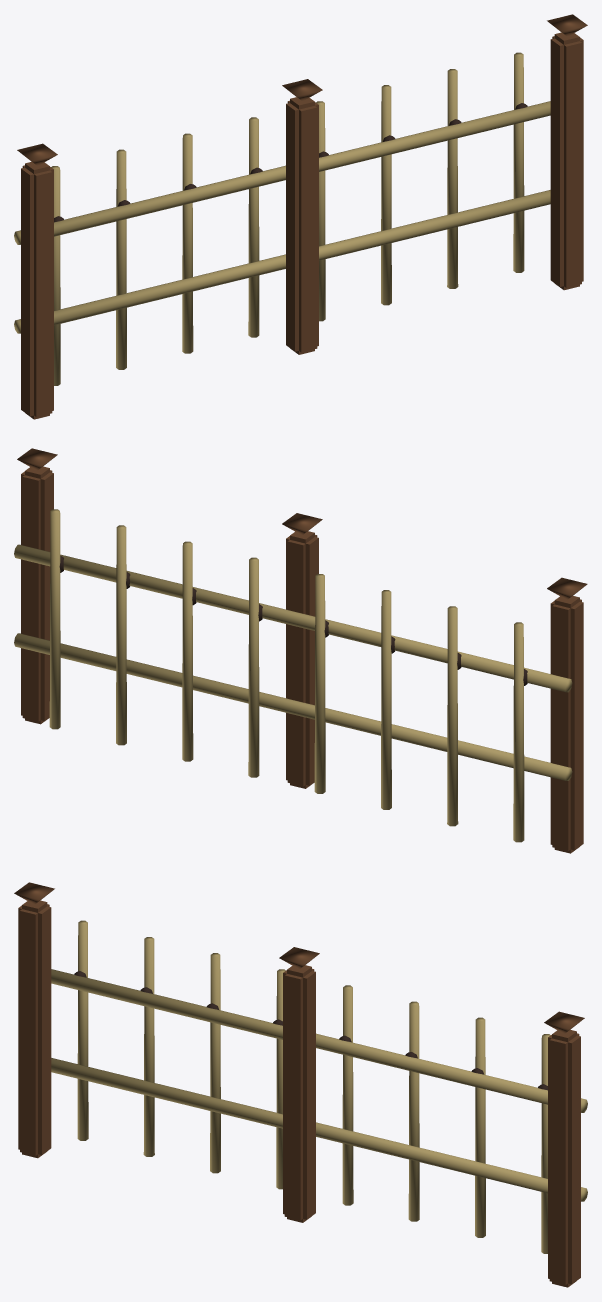
File: fence.glb
3 renders of one model, top to bottom at view 1: azimuth 30°, elevation 25°; view 2: azimuth 150°, elevation 25°; view 3: azimuth 330°, elevation 25°, orthographic.
Parts seen in each view (by area): view 1: Fence; view 2: Fence; view 3: Fence.
Boxes of the visible parts, x1,y1,x2,y2 form: Fence: (14,14,587,419); Fence: (14,448,587,853); Fence: (14,882,587,1287).
Bounding box in the file's own units: 2.1 × 0.945 × 0.1675.
